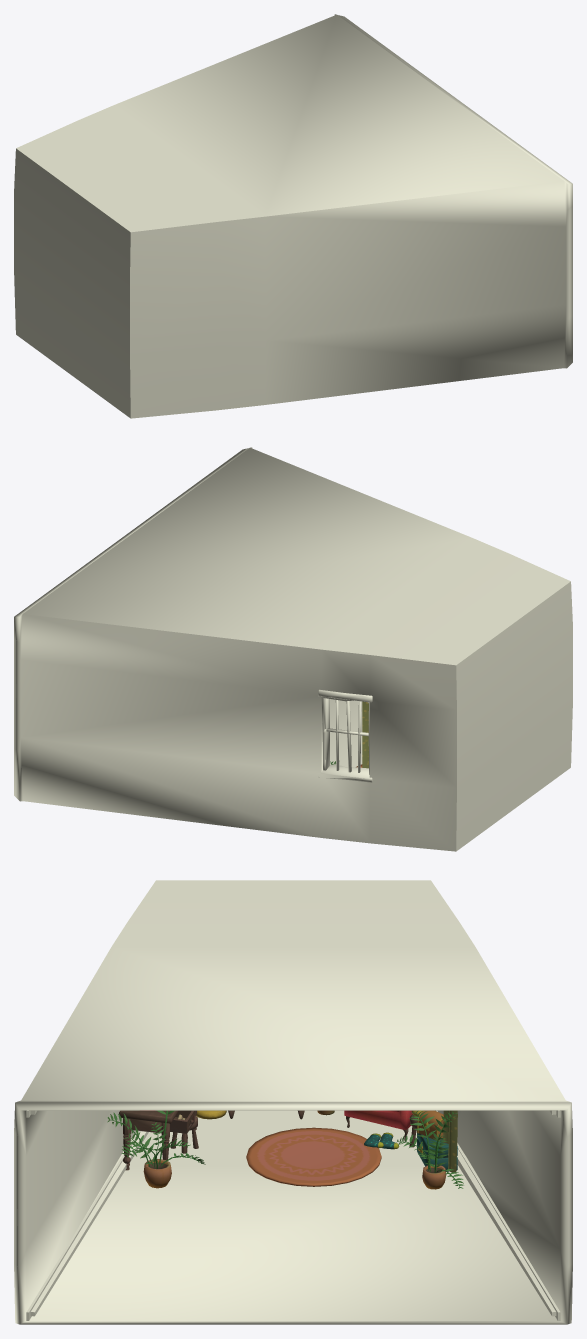
Rendered from room.fbx.
3 views of the same model, one above another, from view 1: azimuth 30°, elevation 25°; view 2: azimuth 150°, elevation 25°; view 3: azimuth 270°, elevation 25° (orthographic). The views are drawn at different scales.
Parts seen in each view (by area): view 1: Cube.006; view 2: Cube.006; view 3: Cube.006, Cylinder.004, Cylinder, Cylinder.008, prop_book_03_inst_002, Cylinder.001.
Boxes of the visible parts, bbox=[...] form: Cube.006: bbox=[14, 14, 572, 418]; Cube.006: bbox=[14, 447, 572, 851]; Cube.006: bbox=[14, 880, 572, 1324]; Cylinder.004: bbox=[246, 1110, 457, 1186]; Cylinder: bbox=[119, 1110, 417, 1170]; Cylinder.008: bbox=[107, 1110, 205, 1188]; prop_book_03_inst_002: bbox=[140, 1110, 457, 1171]; Cylinder.001: bbox=[395, 1110, 463, 1189].
Size of the model in its own units: 1015 by 473 by 1061.
5 materials, 4 textured.
